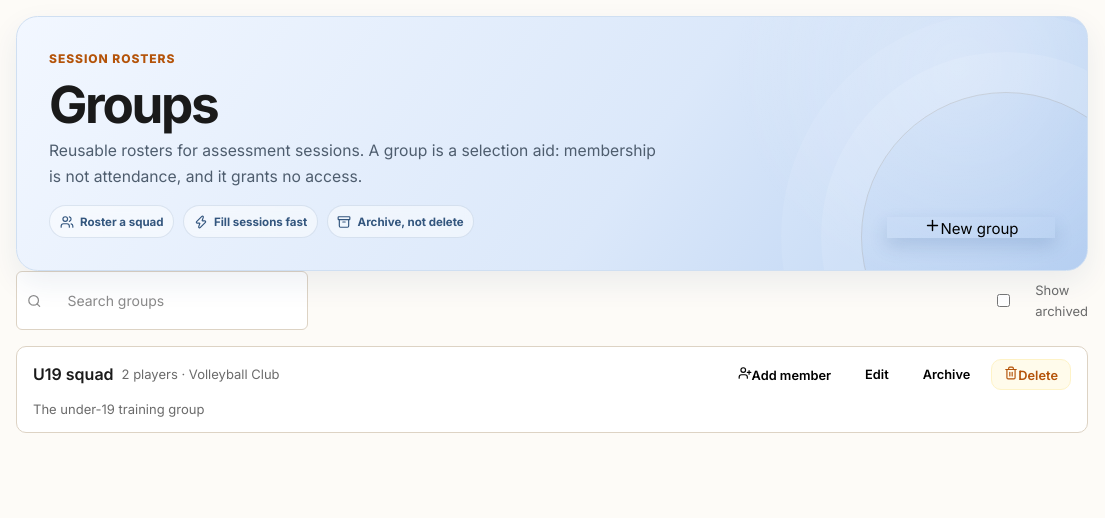
Test: Groups lifecycle › confirms before deleting and surfaces the archive-instead refusal
The image size is (1105, 518).
Expected: the link "U19 squad" is shown, [33,362,114,387]
Click the button "Delete": click(1031, 374) [991,359,1071,390]
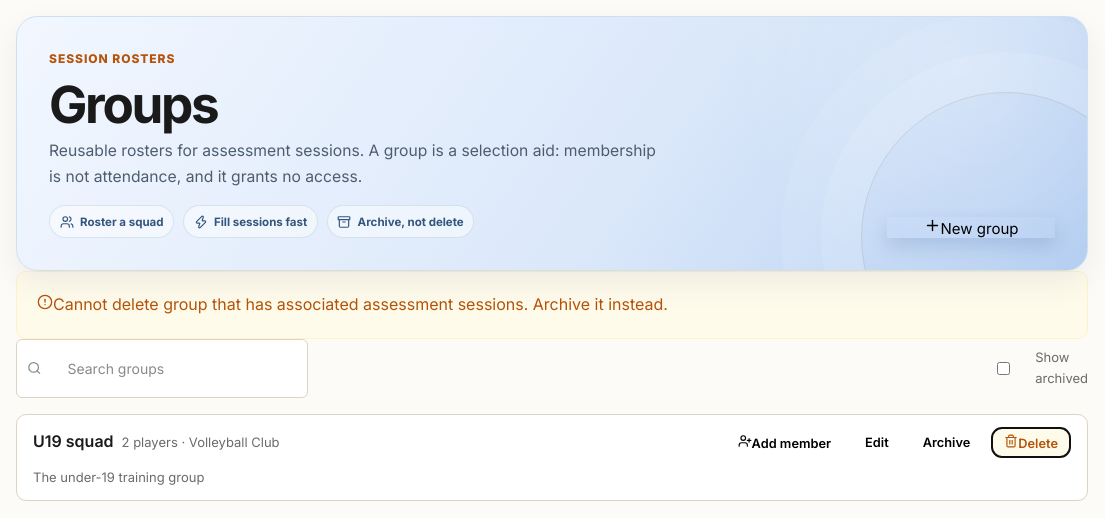
Expected: the message shows "assessment sessions", [53,294,668,314]
